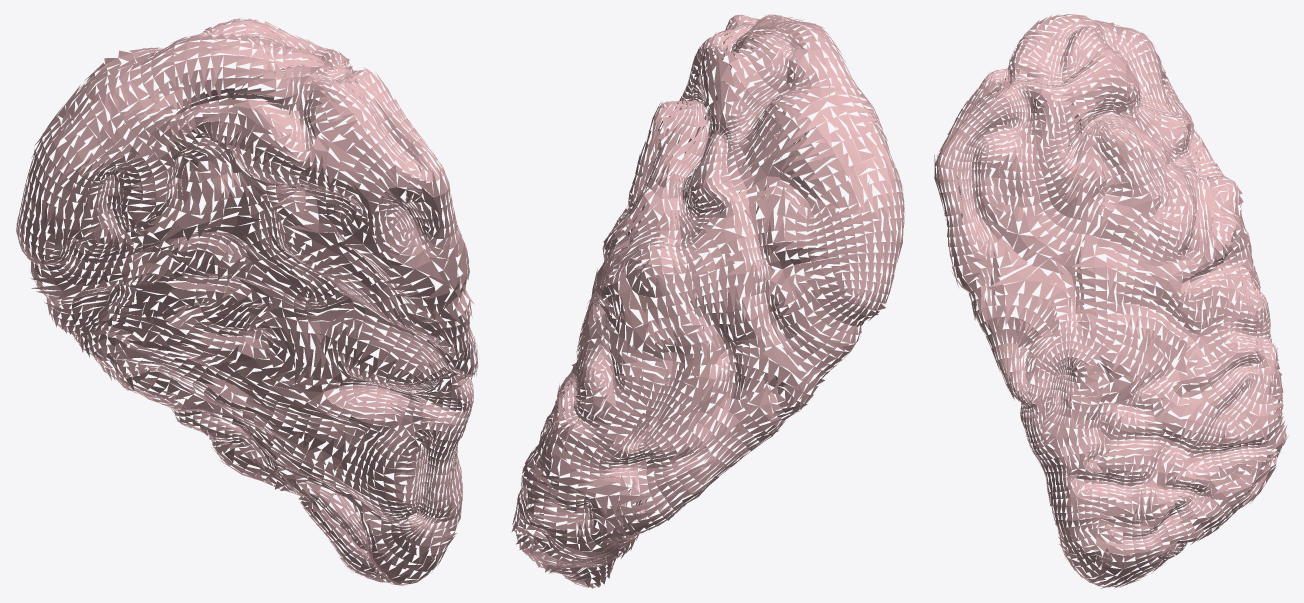
File: 3d-vh-m-palatine-tonsil-l_0.1.glb
The picture shows the model from 3 angles, left to right: view 1: azimuth 30°, elevation 25°; view 2: azimuth 150°, elevation 25°; view 3: azimuth 270°, elevation 25°; orthographic projection. The views are drawn at different scales.
Visible parts, largest first — view 1: VH_M_palatine_tonsil_L; view 2: VH_M_palatine_tonsil_L; view 3: VH_M_palatine_tonsil_L.
Boxes of the visible parts, box(x1,y1,x2,y2) form: VH_M_palatine_tonsil_L: box(16, 18, 478, 585); VH_M_palatine_tonsil_L: box(511, 14, 905, 588); VH_M_palatine_tonsil_L: box(934, 14, 1288, 588).
Bounding box in the file's own units: 0.0164 × 0.0243 × 0.0161.
